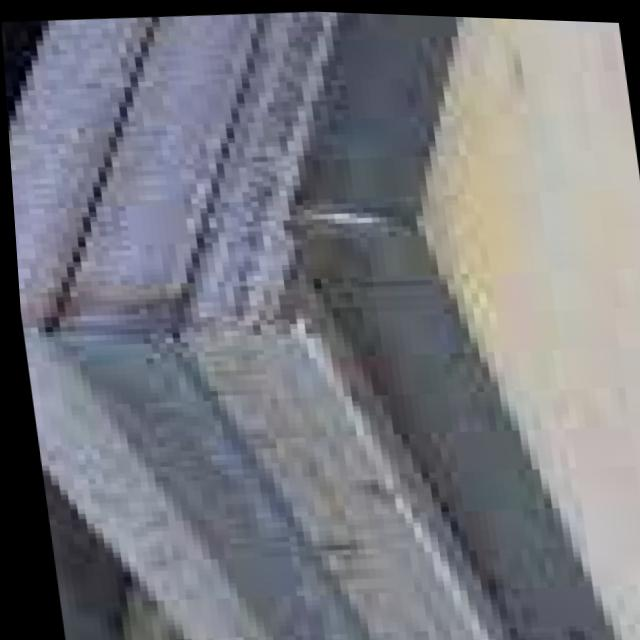metal-plates: (3, 10, 640, 640)
